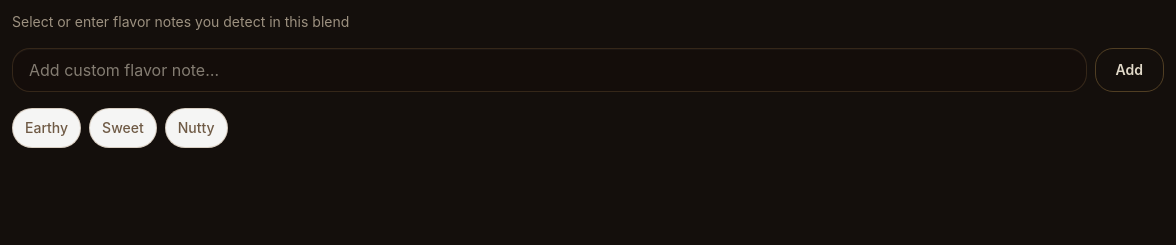
FlavorProfileField › adds a custom flavor when Add is tapped
This screenshot has width=1176, height=245.
In the field with placeholder "Add custom flavor note…": x=549, y=70 [12,48,1086,92], type "Brown Sugar"
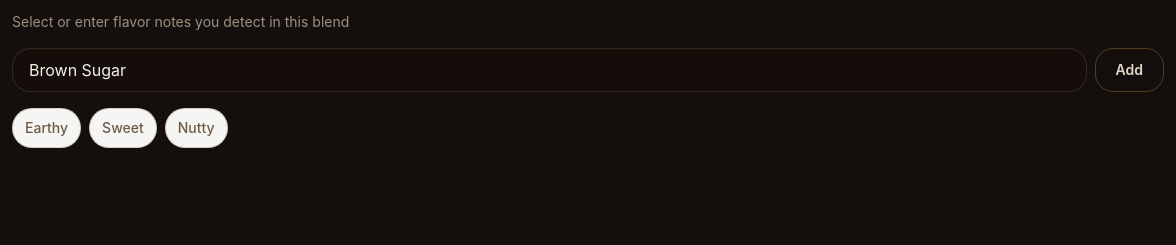
Click the button "Add": x=1129, y=70 [1094,48,1164,92]
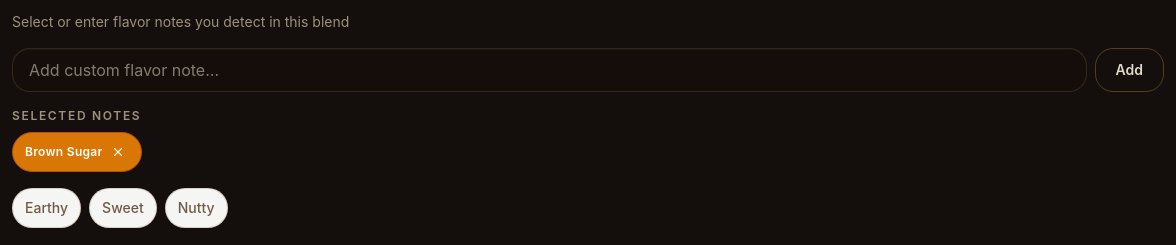
Now the text "Brown Sugar" is shown, box [25,146,103,158]
